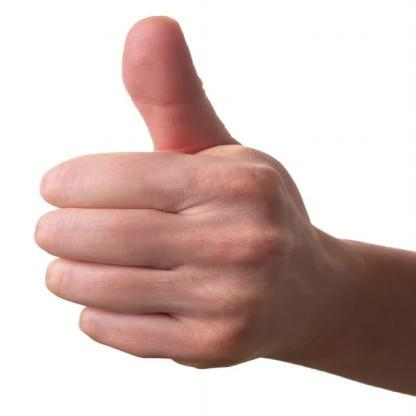thumb_up: (32, 10, 306, 370)
